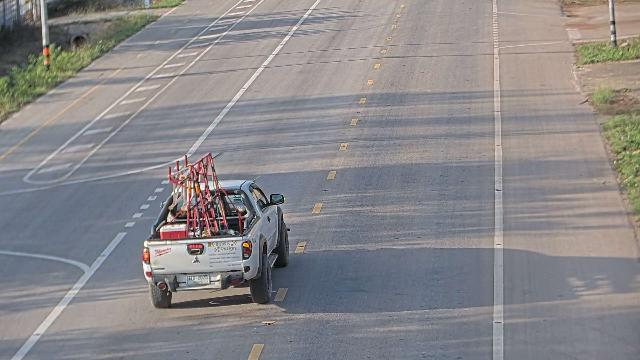pickup-truck: (141, 152, 290, 309)
